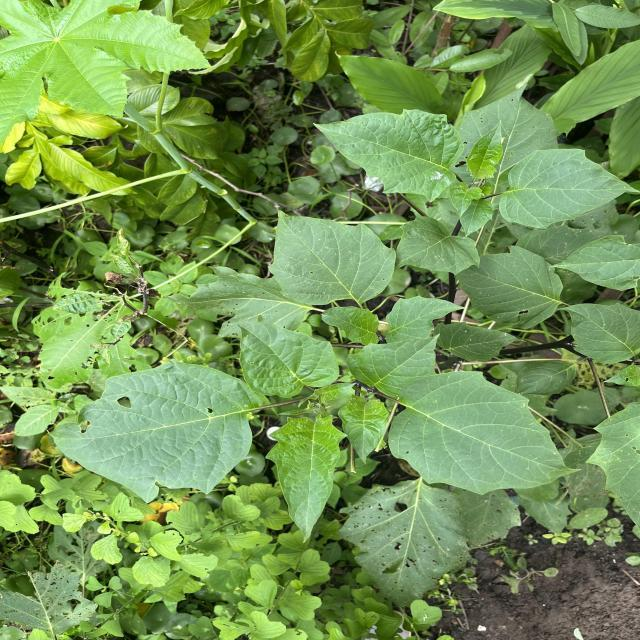Datura metal linn: (45, 358, 264, 506), (386, 369, 582, 496), (310, 107, 466, 204), (266, 207, 398, 308), (498, 148, 640, 230), (264, 412, 350, 546), (556, 301, 640, 365)
